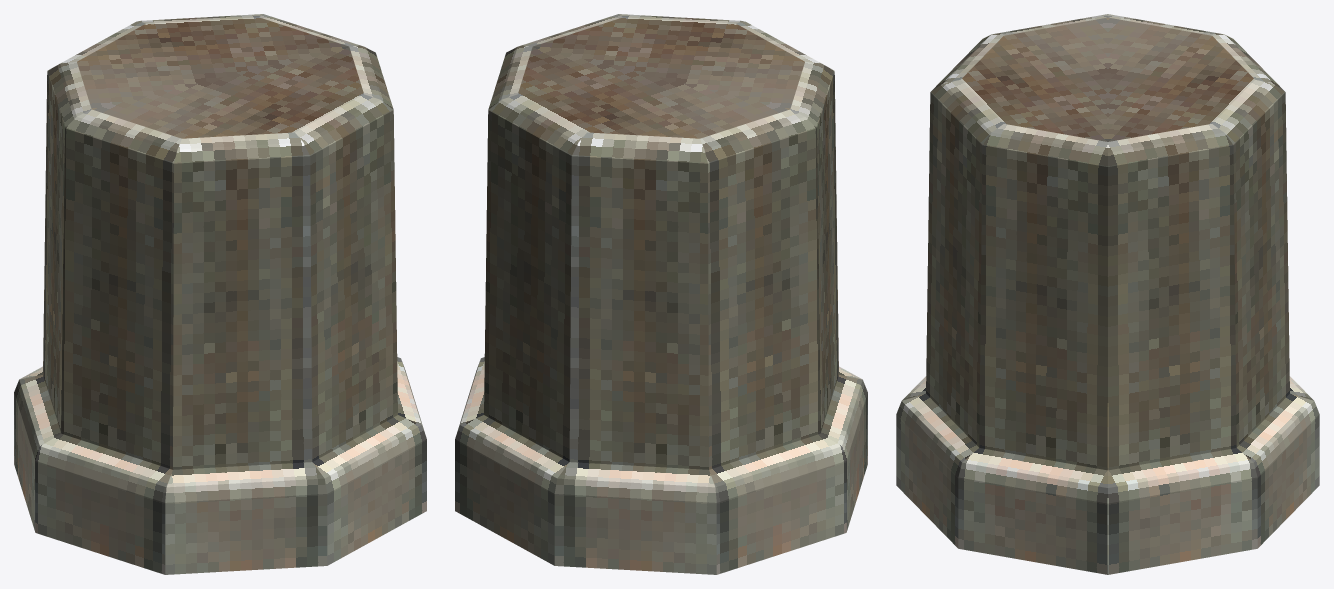
The model's file is ColumnStone01.obj.
3 renders of one model, left to right at view 1: azimuth 30°, elevation 25°; view 2: azimuth 150°, elevation 25°; view 3: azimuth 270°, elevation 25°, orthographic.
Visible parts, largest first — view 1: ColummStone01; view 2: ColummStone01; view 3: ColummStone01.
Part boxes in pixels (x1,y1,x2,y2): ColummStone01: [14, 14, 426, 574]; ColummStone01: [455, 14, 867, 574]; ColummStone01: [896, 14, 1319, 574].
Bounding box in the file's own units: 0.7932 × 0.839 × 0.7932.
